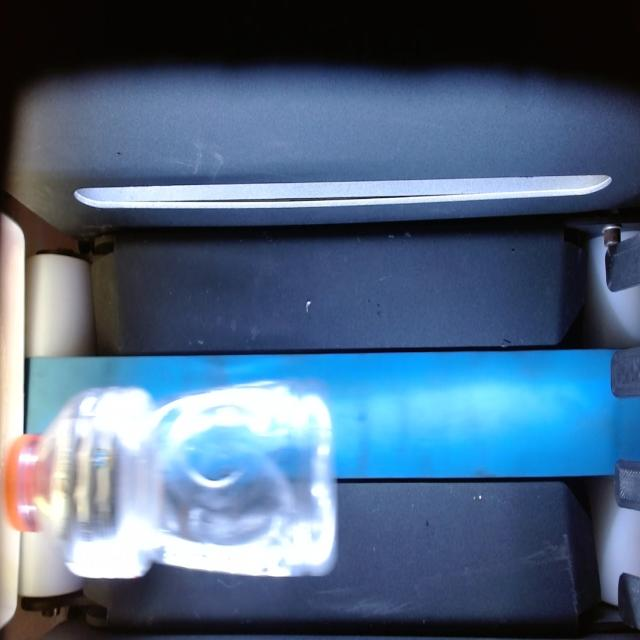bottom: (156, 382, 336, 576)
label: (49, 389, 159, 578)
neck: (4, 433, 55, 531)
